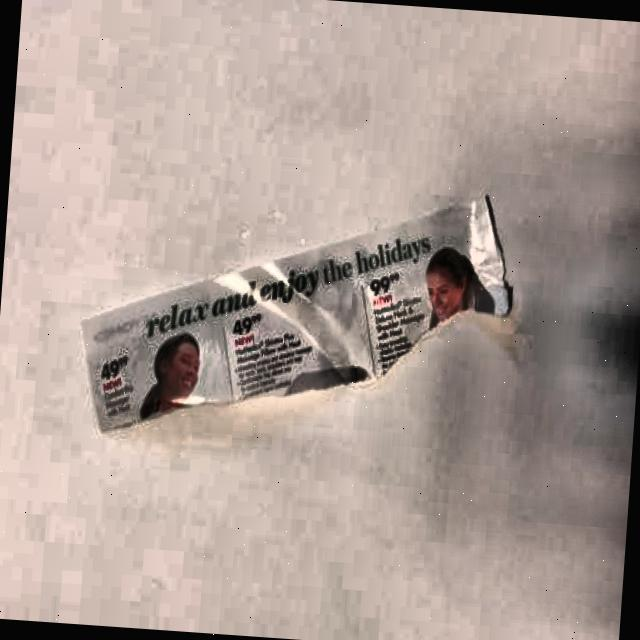paper: (81, 174, 518, 438)
